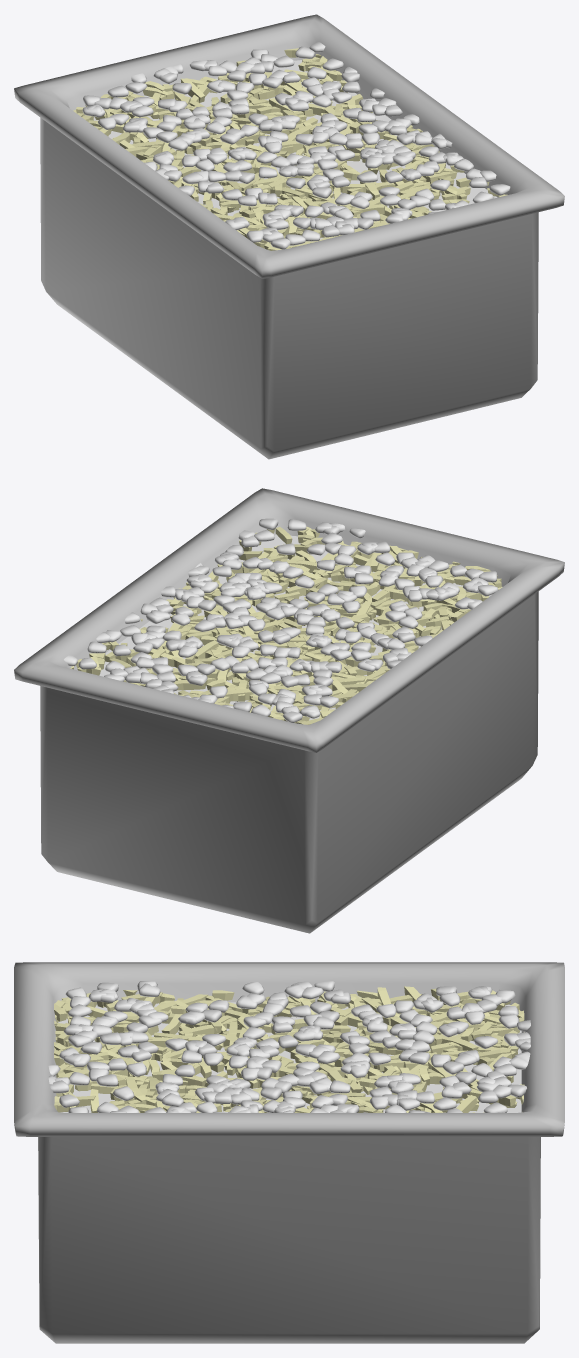
File: cheese_vart.fbx
The picture shows the model from 3 angles, top to bottom: view 1: azimuth 30°, elevation 25°; view 2: azimuth 150°, elevation 25°; view 3: azimuth 270°, elevation 25°; orthographic projection. The views are drawn at different scales.
Parts seen in each view (by area): view 1: cheese_vat; view 2: cheese_vat; view 3: cheese_vat.
Part boxes in pixels (left/top/right/bottom): cheese_vat: left=14, top=14, right=564, bottom=459; cheese_vat: left=14, top=488, right=564, bottom=933; cheese_vat: left=14, top=962, right=564, bottom=1343.
Bounding box in the file's own units: 9.7 × 6.45 × 13.71.
